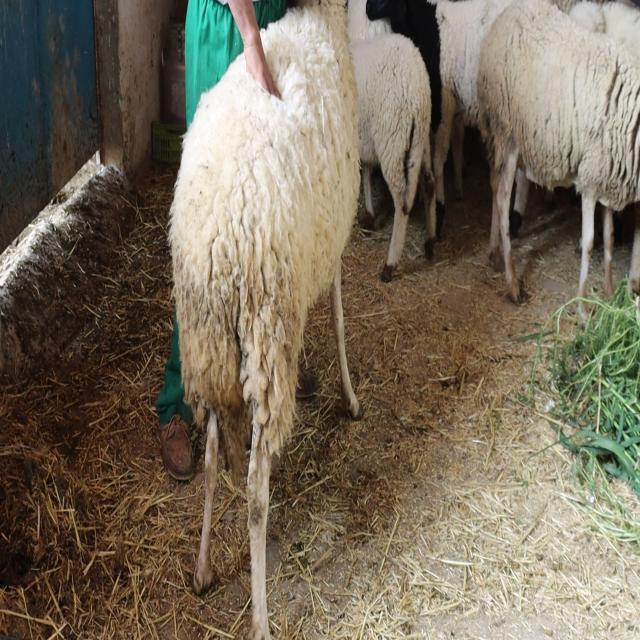Score_5: (168, 0, 360, 639)
